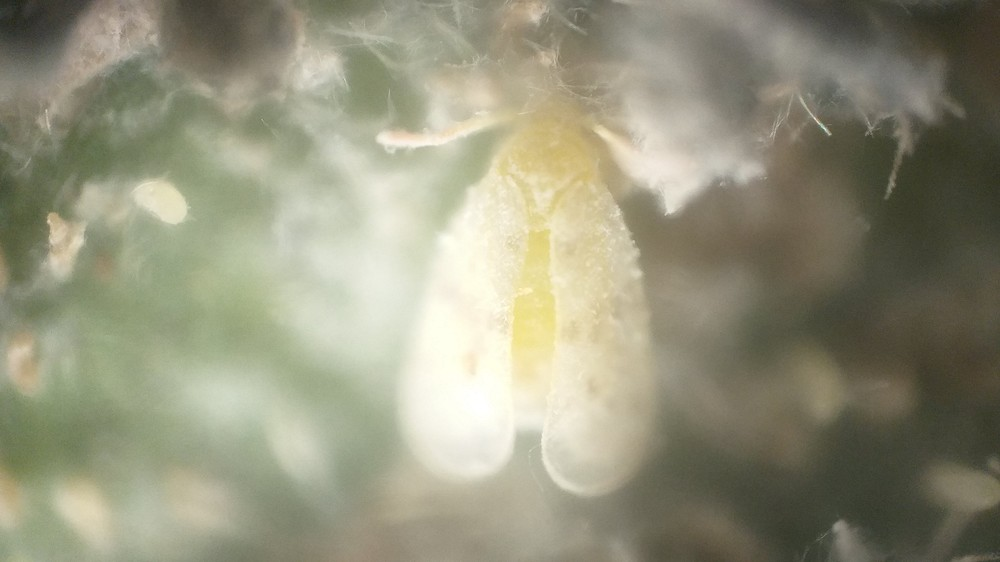Mosca Blanca: (346, 79, 710, 513)
